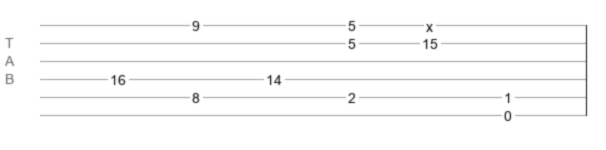0: (504, 108, 512, 118)
1: (504, 90, 512, 100)
14: (266, 72, 282, 82)
15: (422, 36, 438, 46)
16: (110, 72, 126, 82)
2: (348, 90, 356, 100)
5: (348, 18, 356, 28), (348, 36, 356, 46)
8: (192, 90, 200, 100)
9: (192, 18, 200, 28)
x: (426, 19, 433, 27)
